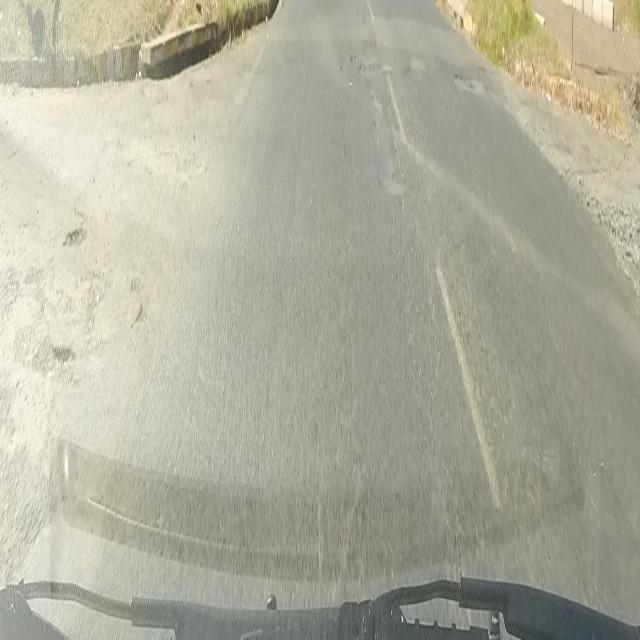pothole: (29, 324, 76, 393), (61, 220, 87, 255)
